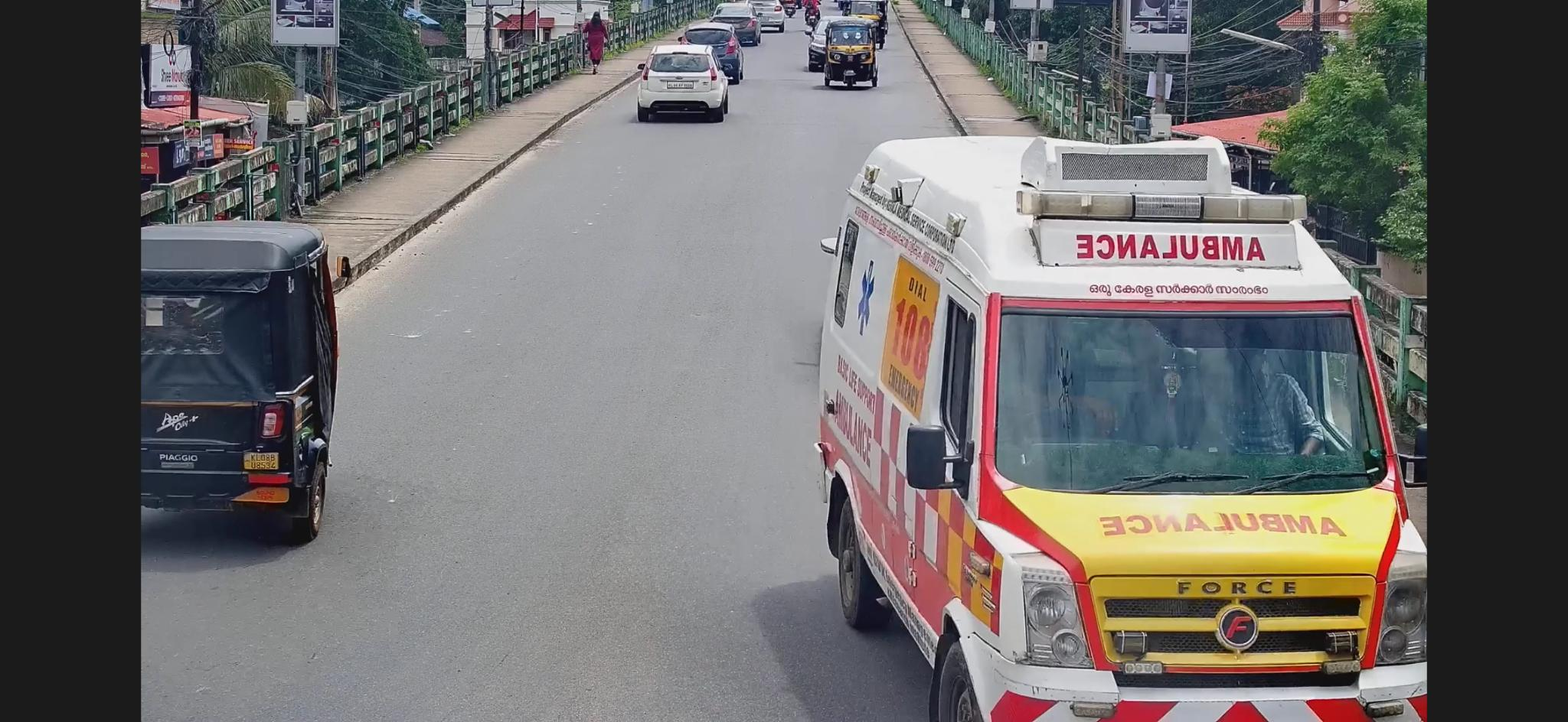ambulance: (842, 123, 1423, 716)
